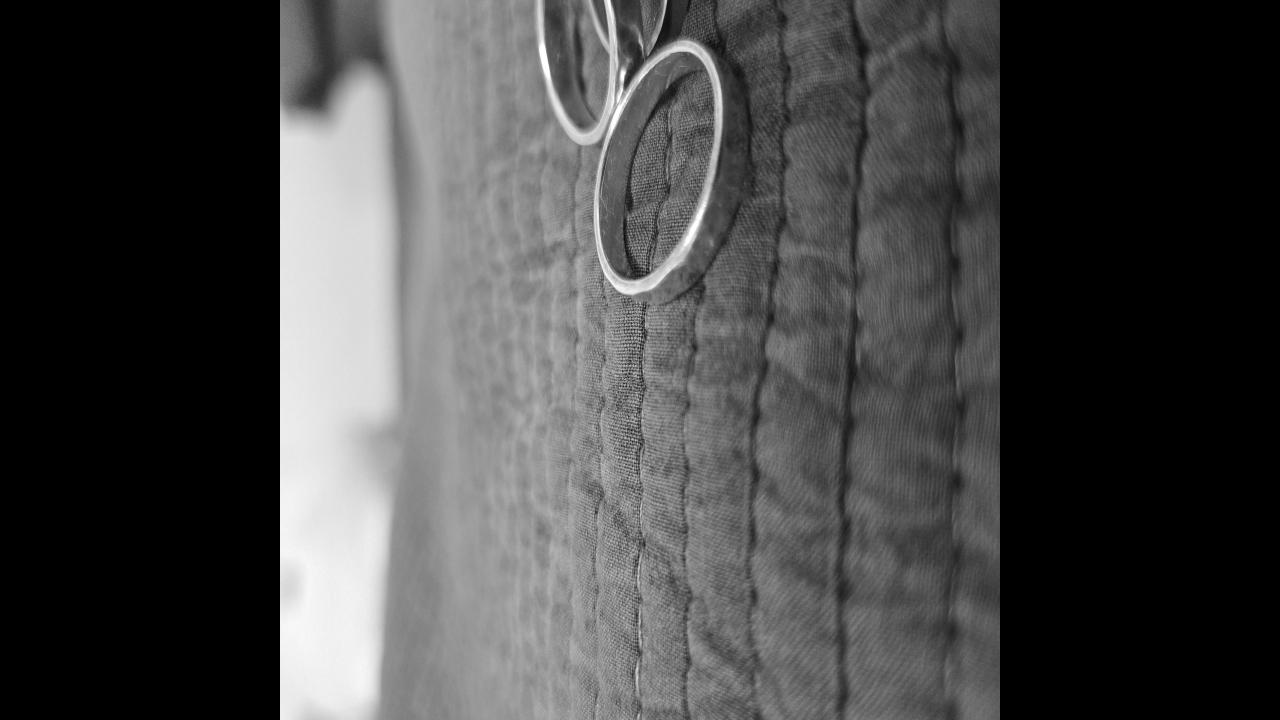ring: (593, 38, 747, 301), (535, 0, 645, 147), (577, 0, 696, 64)
